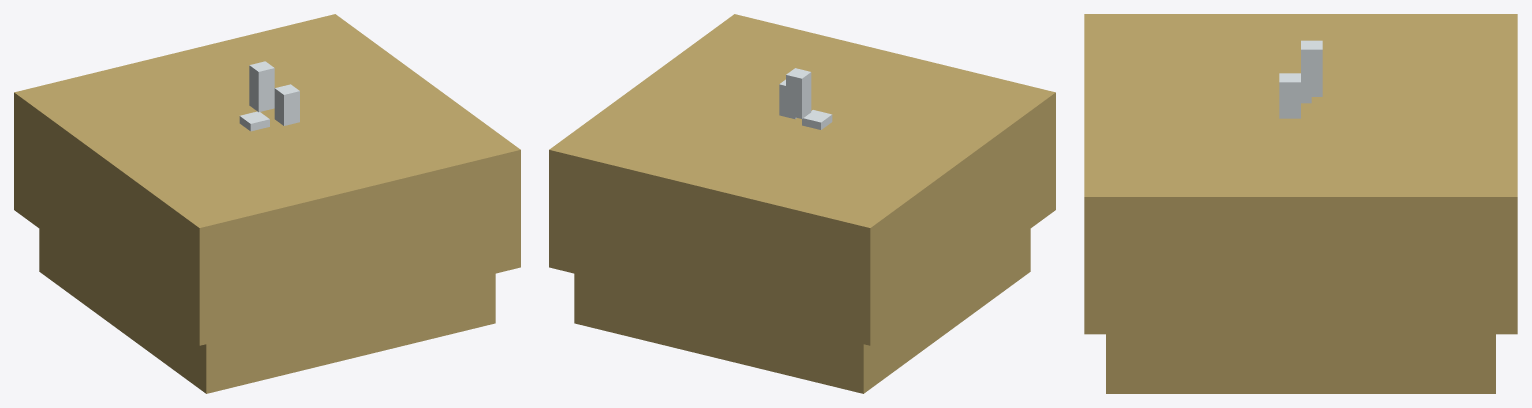
File: product_poach_broth.glb
3 views of the same model, side by side, from view 1: azimuth 30°, elevation 25°; view 2: azimuth 150°, elevation 25°; view 3: azimuth 270°, elevation 25° (orthographic). The views are drawn at different scales.
Visible parts, largest first — view 1: ProductArt_body, ProductArt_steam; view 2: ProductArt_body, ProductArt_steam; view 3: ProductArt_body, ProductArt_steam.
Part boxes in pixels (x1,y1,x2,y2): ProductArt_body: (14,14,520,393); ProductArt_steam: (239,61,299,131); ProductArt_body: (549,14,1055,393); ProductArt_steam: (779,68,832,129); ProductArt_body: (1084,14,1517,393); ProductArt_steam: (1279,40,1322,118).
Size of the model in its own units: 0.24 by 0.1626 by 0.24.
